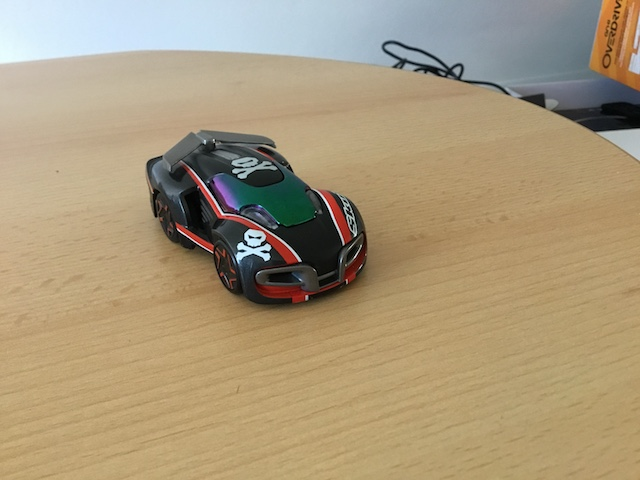car-red: (142, 123, 372, 311)
